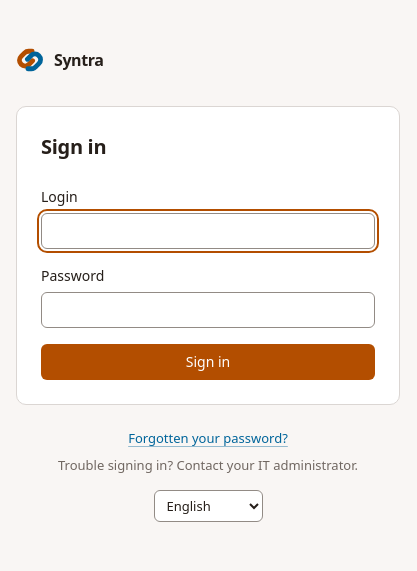
Test case: Login › shows one generic message for a rejected login
Type "jdoe" into the field labelled "Login" at (208, 231), box left=41, top=213, right=375, bottom=249
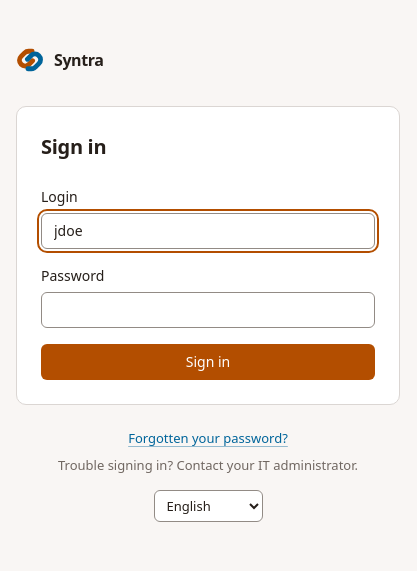
Type "wrong" into the password field labelled "Password" at (208, 310), box left=41, top=292, right=375, bottom=328
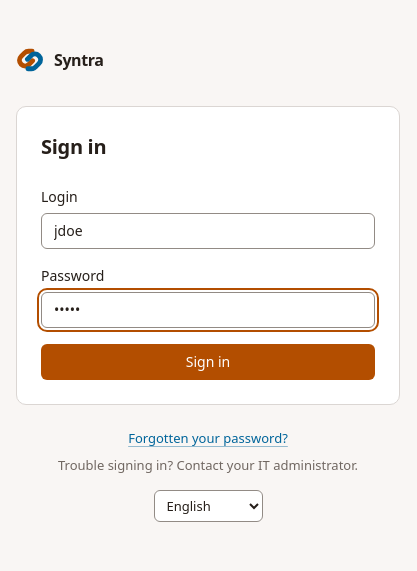
Click the button "Sign in" at (208, 362), box left=41, top=344, right=375, bottom=380
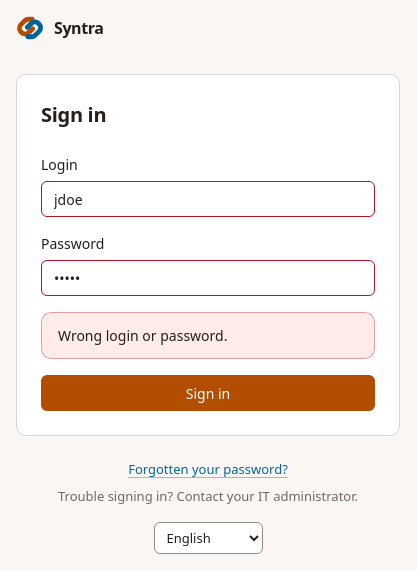
Check: the message shows "Wrong login or password", box left=58, top=326, right=228, bottom=346
